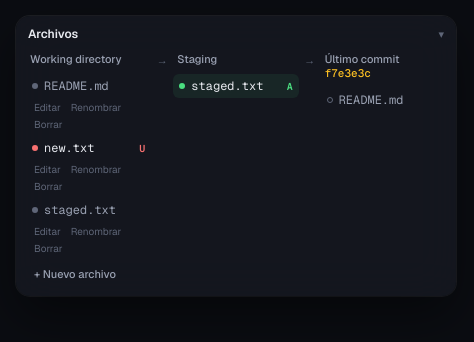
Test: FilesStrip / per-file actions › exposes the Renombrar inline error as role="alert" for assistive tech (same convention as NewPullRequestForm/CommentForm/MergeBox)
Click the button with aria-label "Renombrar new.txt": (96, 170) [67,162,125,177]
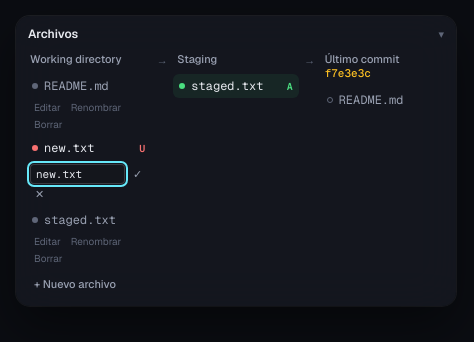
In the field named "Nuevo nombre para new.txt": (78, 174) [30,164,125,184], type "x"
Then press Enter
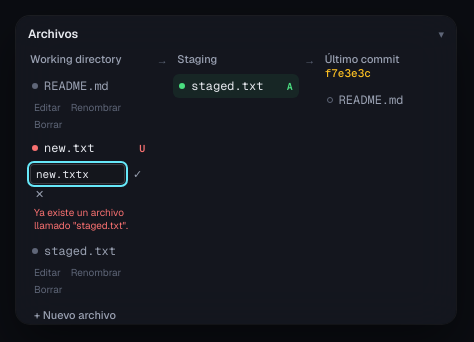
Now the message reads "Ya existe un archivo llamado \"staged.txt\".", box [34,206,128,232]
